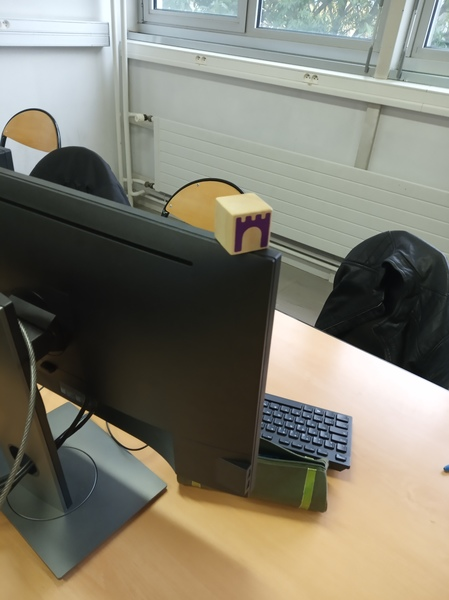violet: (212, 191, 275, 256)
